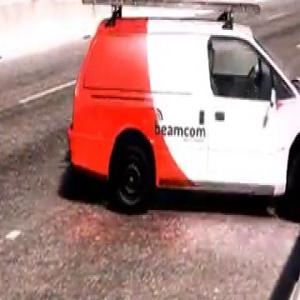significant: (59, 0, 300, 233)
